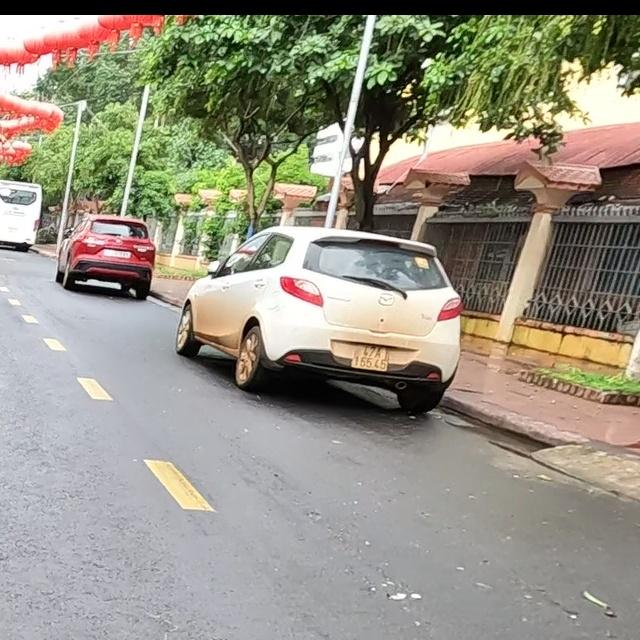license-plate: (351, 346, 389, 371)
